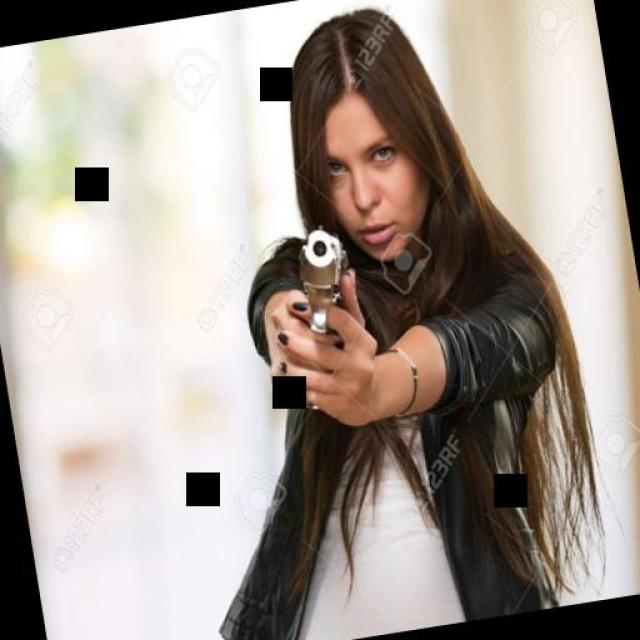gun: (258, 196, 370, 424)
